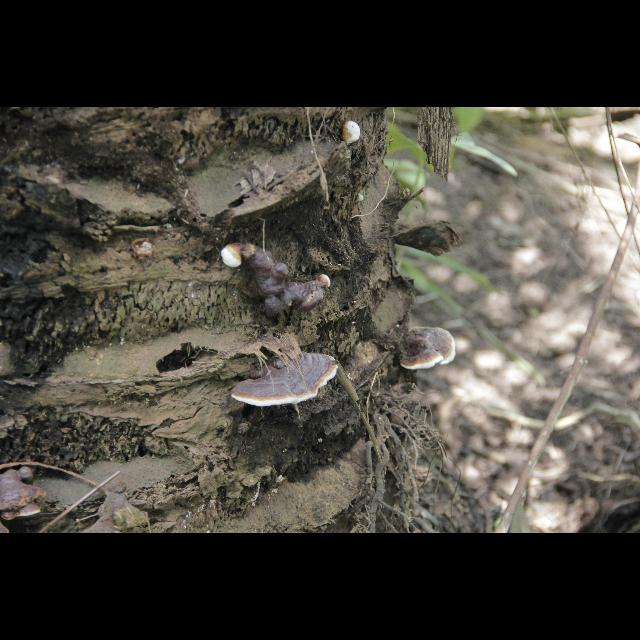ganoderma: (244, 244, 325, 321), (232, 353, 340, 410), (2, 466, 49, 522), (399, 327, 457, 372)
primordium: (222, 243, 244, 269), (341, 121, 362, 146), (319, 276, 332, 291), (359, 196, 365, 203)
